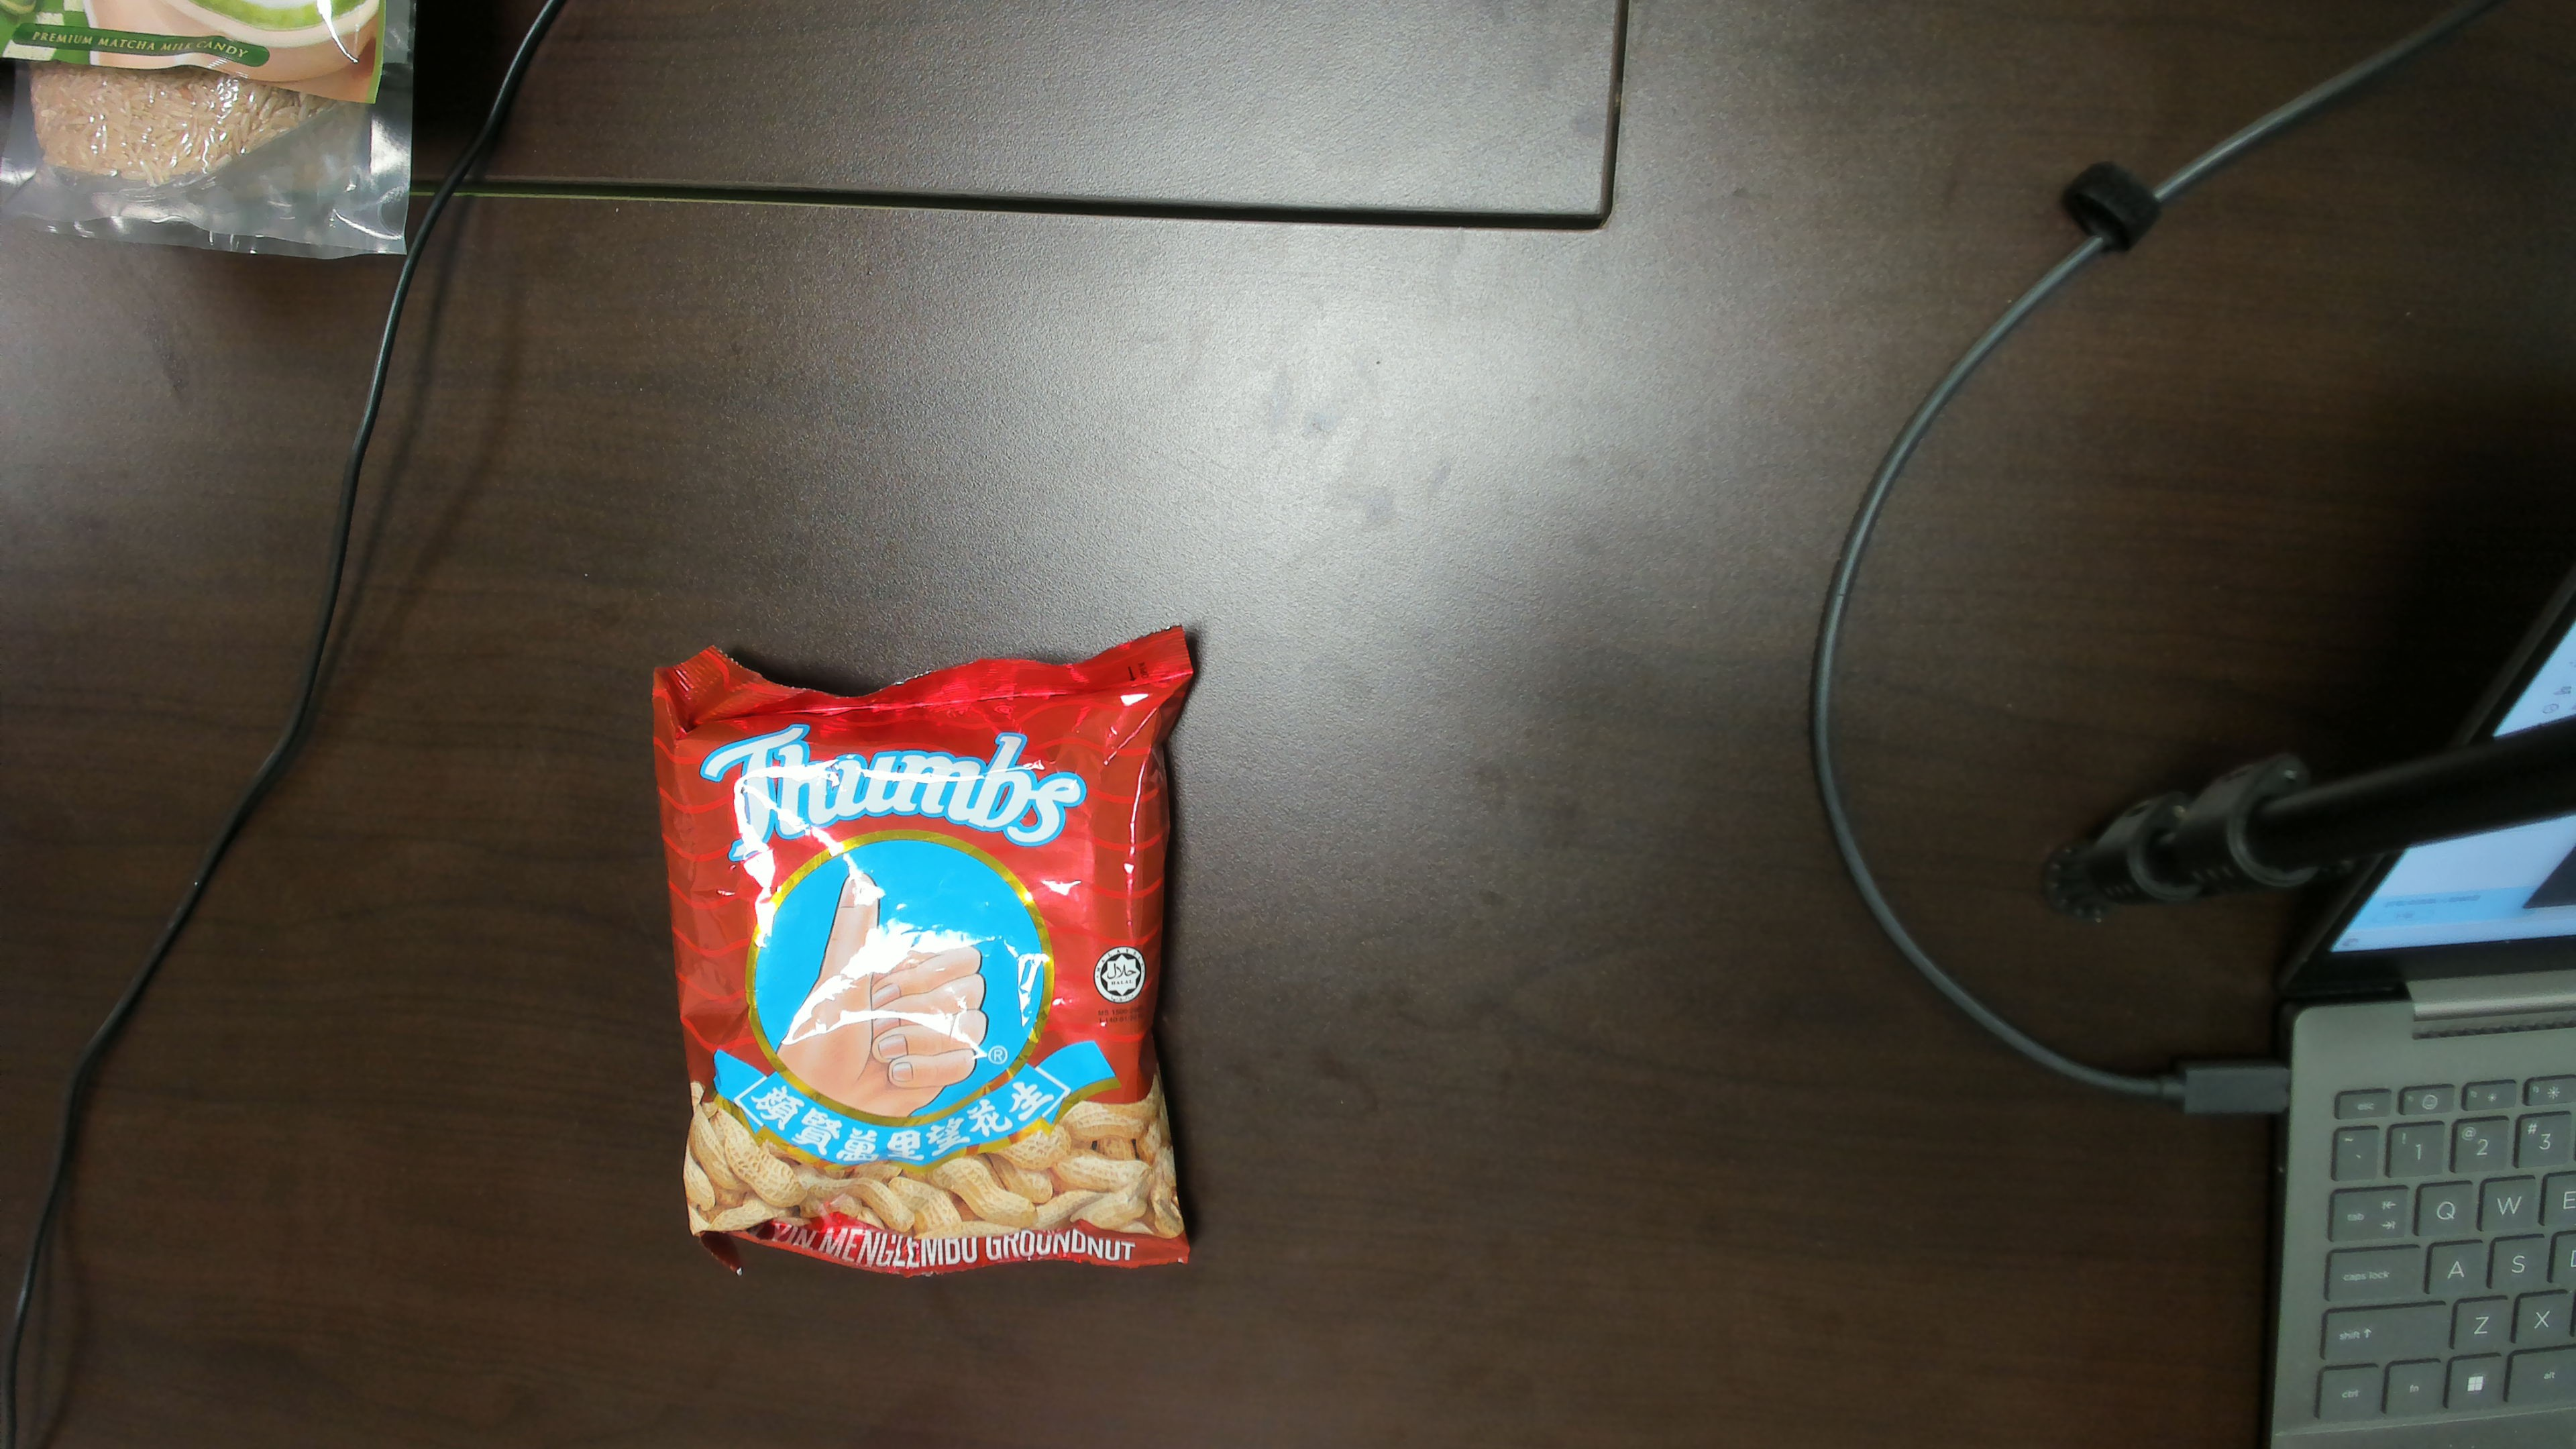Nuts_100-199g_Halal_NonHealthy: (686, 729, 1154, 1228)
